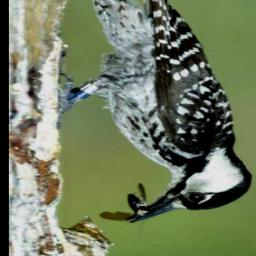Woodpecker: (68, 0, 254, 223)
